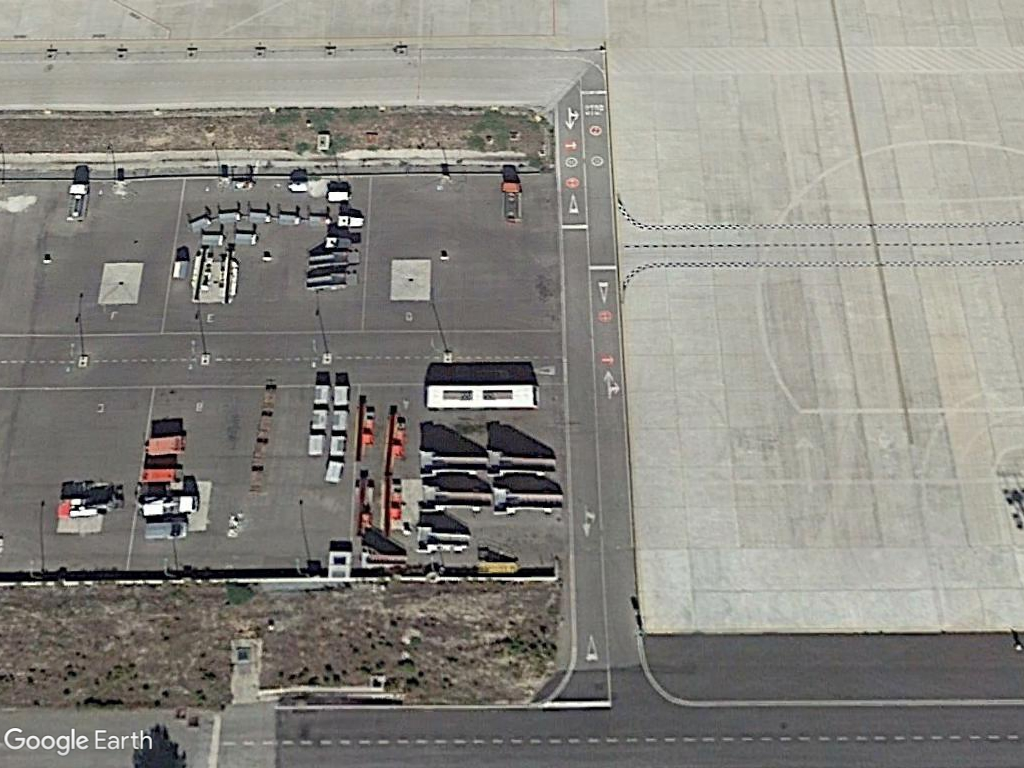bus: (419, 381, 549, 413)
stairtruck: (481, 443, 560, 481), (486, 480, 564, 517), (413, 444, 489, 480), (417, 484, 496, 515), (413, 523, 476, 557)
van: (142, 517, 192, 543)
